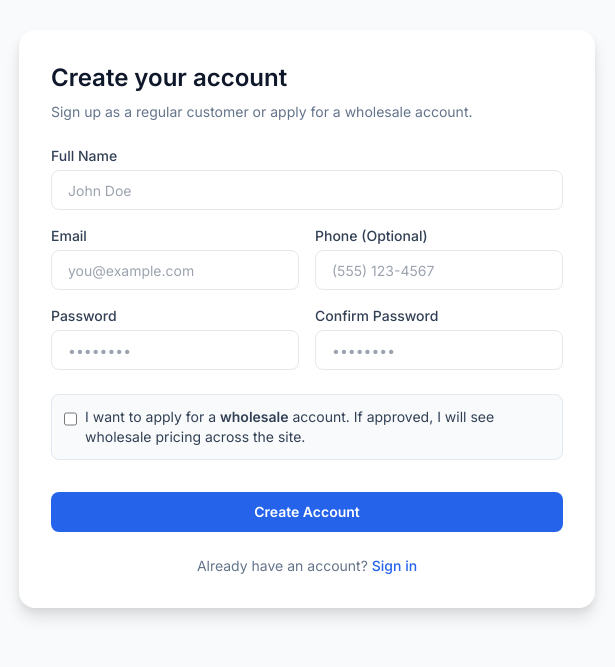
Test case: SignupPage › shows validation errors on empty submit
Click the button "Create Account" at coordinates (307, 512), box [51,492,563,532]
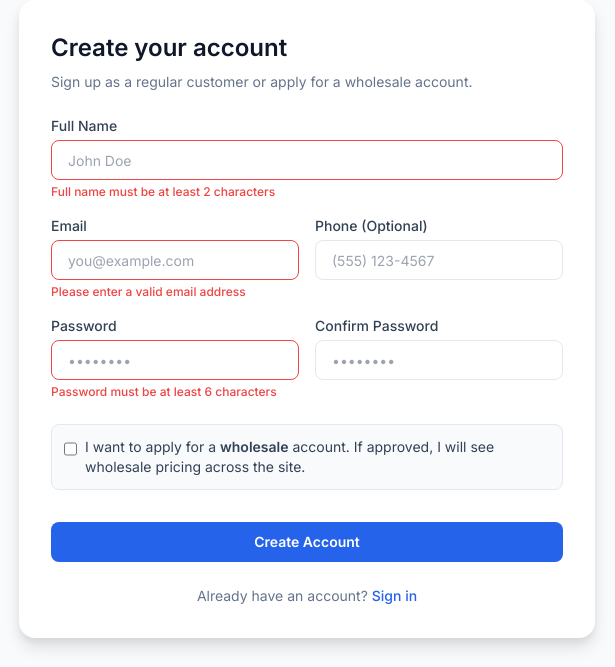
Expected: the text "Full name must be at least 2 characters" is shown, [51,184,275,199]
Expected: the text "Please enter a valid email address" is shown, [51,284,246,299]
Expected: the text "Password must be at least 6 characters" is shown, [51,384,299,400]
